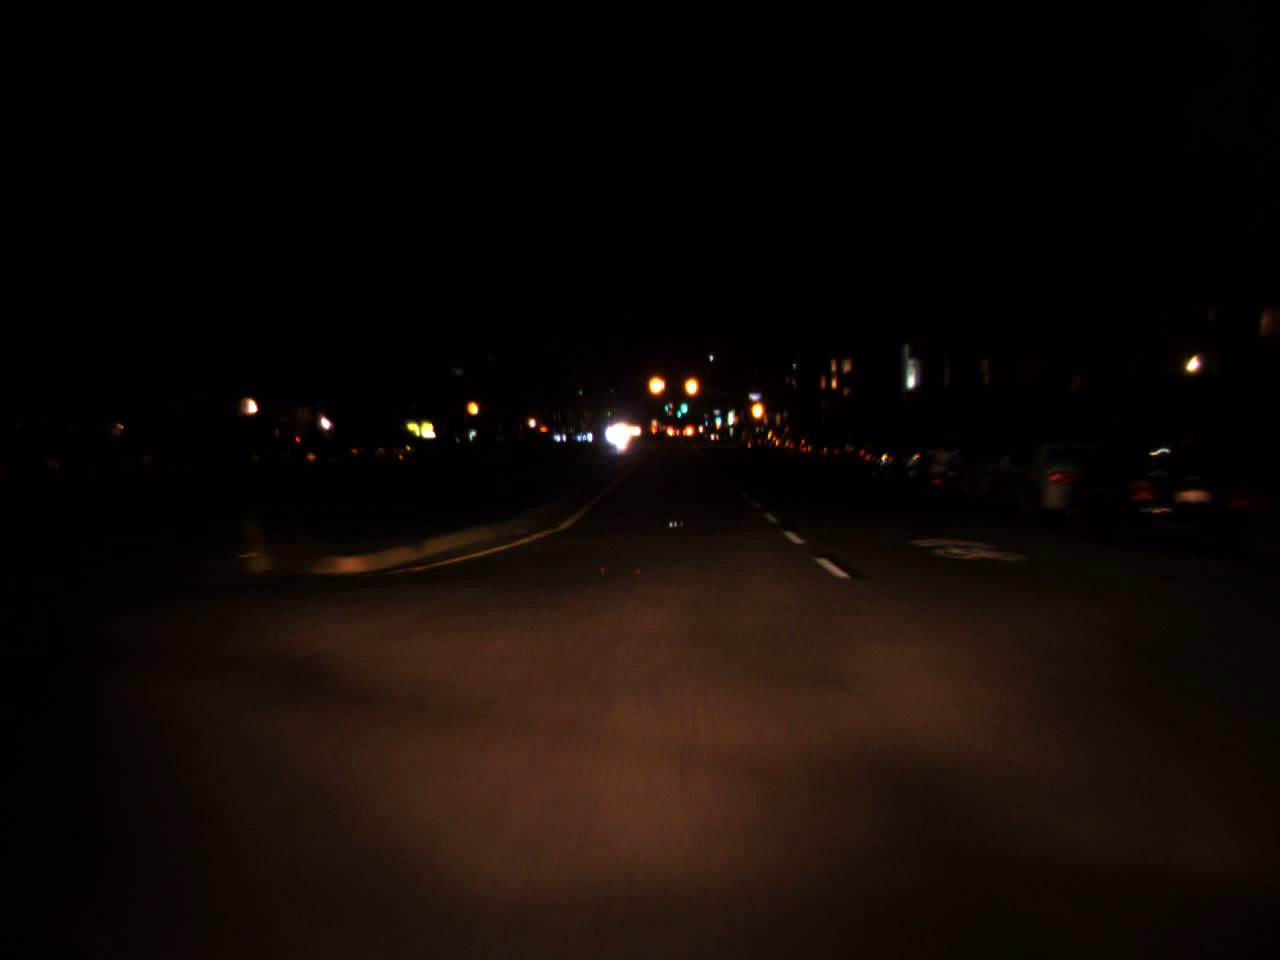go: (678, 390, 688, 417), (662, 396, 669, 414), (675, 404, 682, 419), (713, 412, 722, 424)
warning: (643, 364, 670, 404), (681, 364, 702, 406), (749, 389, 767, 429), (462, 392, 481, 422)
